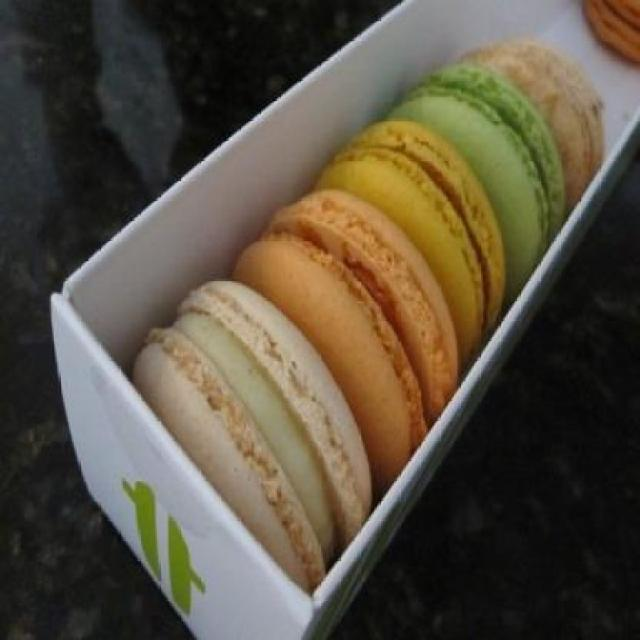Macaron: (126, 37, 624, 577)
